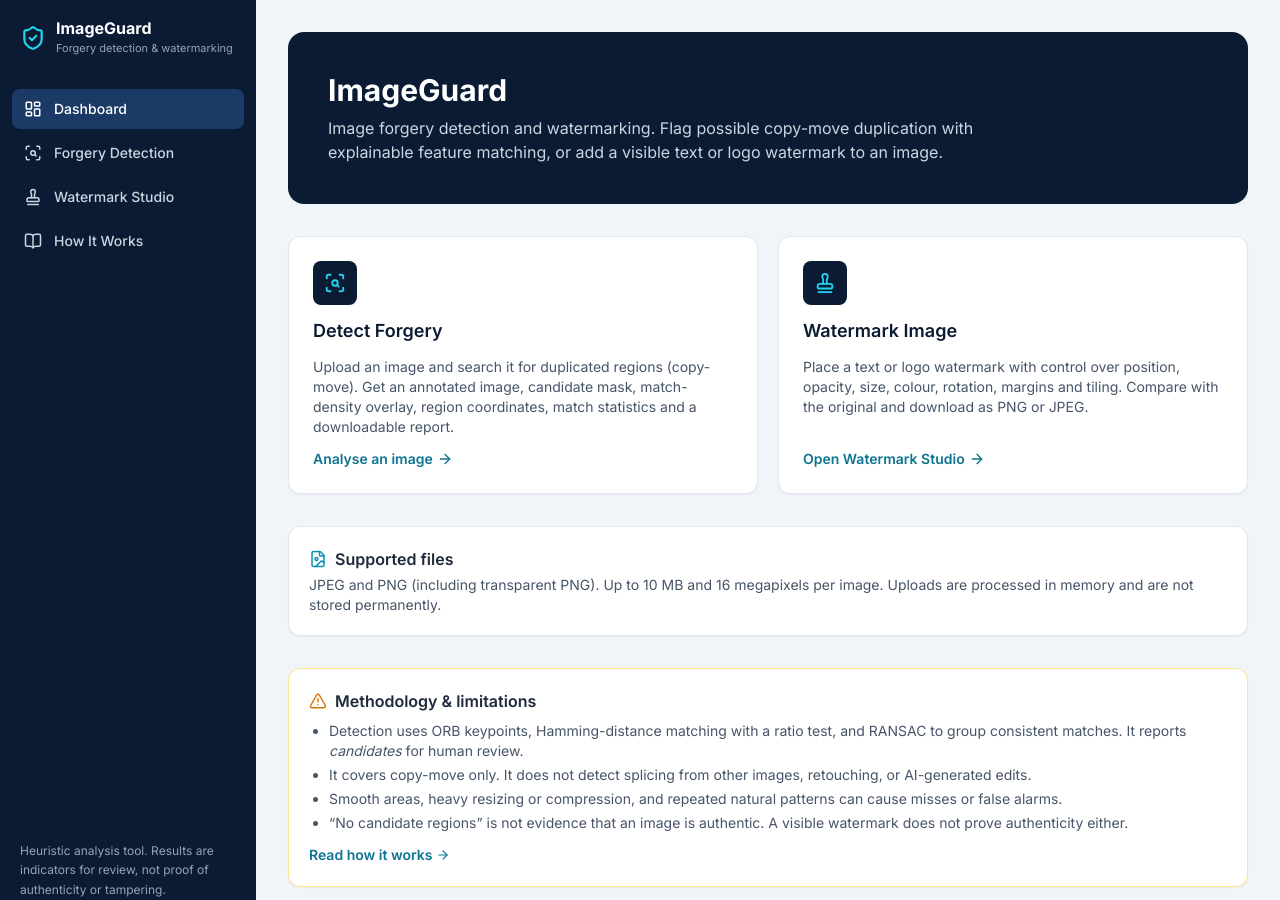
Test: App navigation › navigates to Watermark Studio page when clicking sidebar link
Click the link "Watermark Studio" at (99, 196), box x1=24 y1=188 x2=174 y2=206
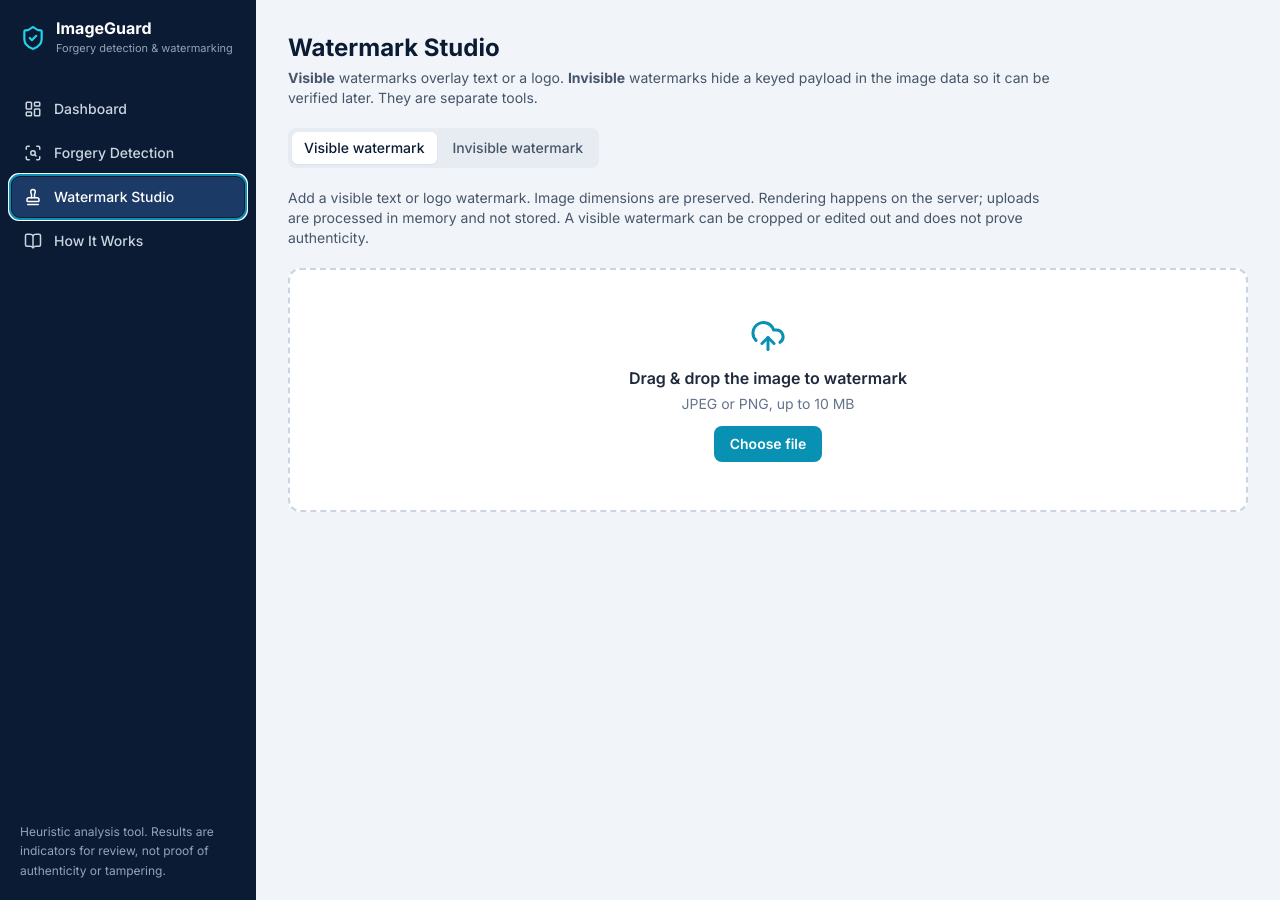
expect the heading "Watermark Studio" is shown: met, box x1=288 y1=33 x2=500 y2=62
expect the text "Drag & drop the image to watermark" is shown: met, box x1=629 y1=366 x2=907 y2=390
